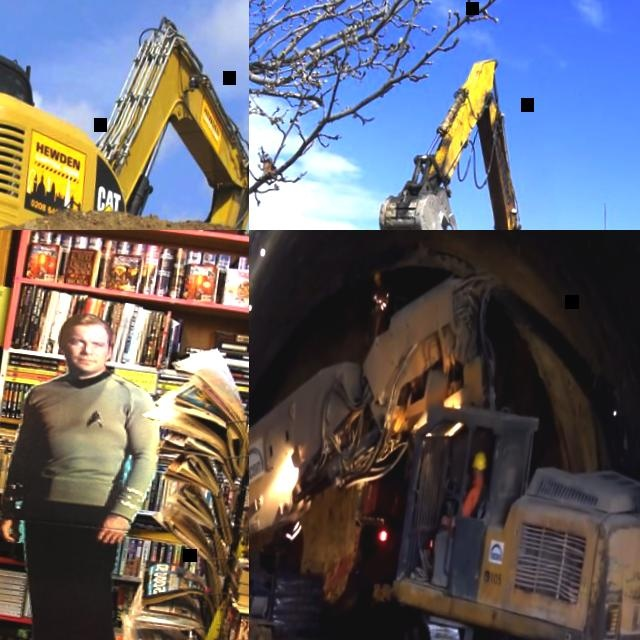Hardhat: (473, 451, 489, 471)
NO-Mask: (474, 471, 479, 481)
Safety Vest: (463, 476, 485, 517)
machinery: (249, 237, 640, 640), (0, 0, 249, 230), (353, 42, 632, 230)
